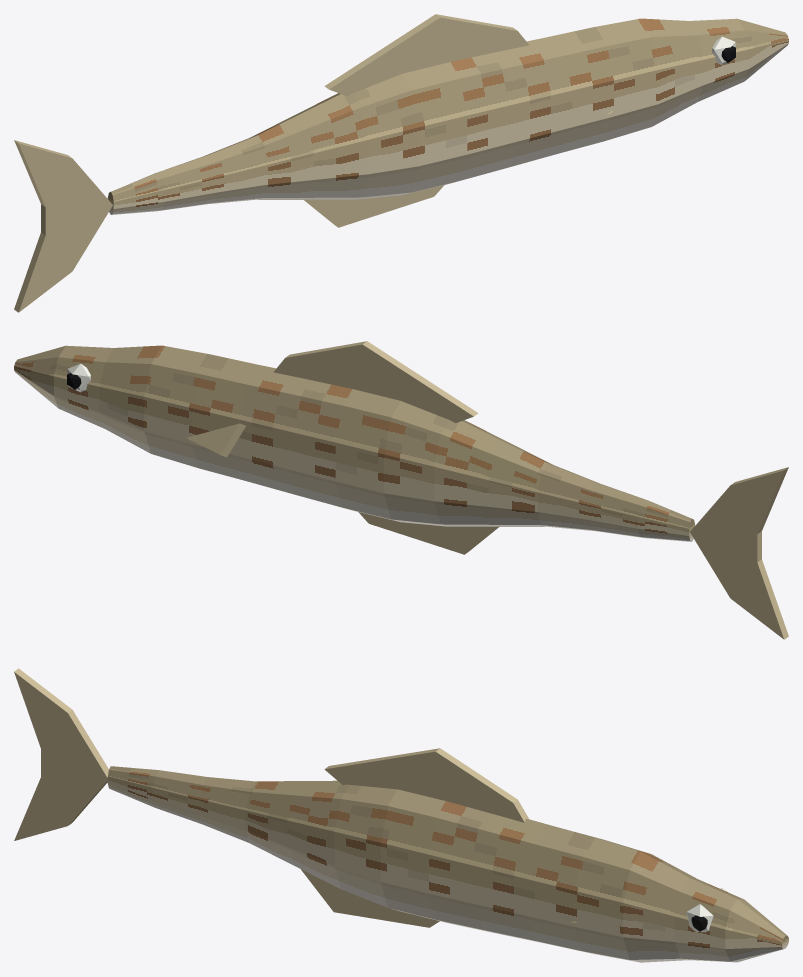
The model's file is king_george_whiting.glb.
3 renders of one model, top to bottom at view 1: azimuth 30°, elevation 25°; view 2: azimuth 150°, elevation 25°; view 3: azimuth 330°, elevation 25°, orthographic.
Visible parts, largest first — view 1: fish_king_george_whiting; view 2: fish_king_george_whiting; view 3: fish_king_george_whiting.
Part boxes in pixels (box(x1,y1,x2,y2)): fish_king_george_whiting: box(14, 14, 788, 312); fish_king_george_whiting: box(14, 341, 788, 639); fish_king_george_whiting: box(14, 668, 788, 962).
Bounding box in the file's own units: 1.14 × 0.2725 × 0.1267.
Materials: 4 (1 with a texture image).
